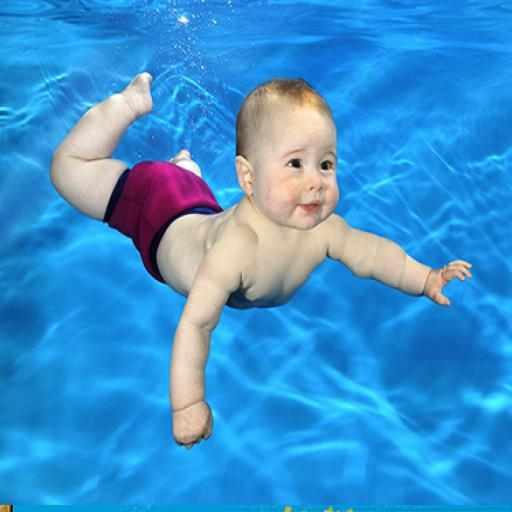swimming: (48, 68, 476, 452)
